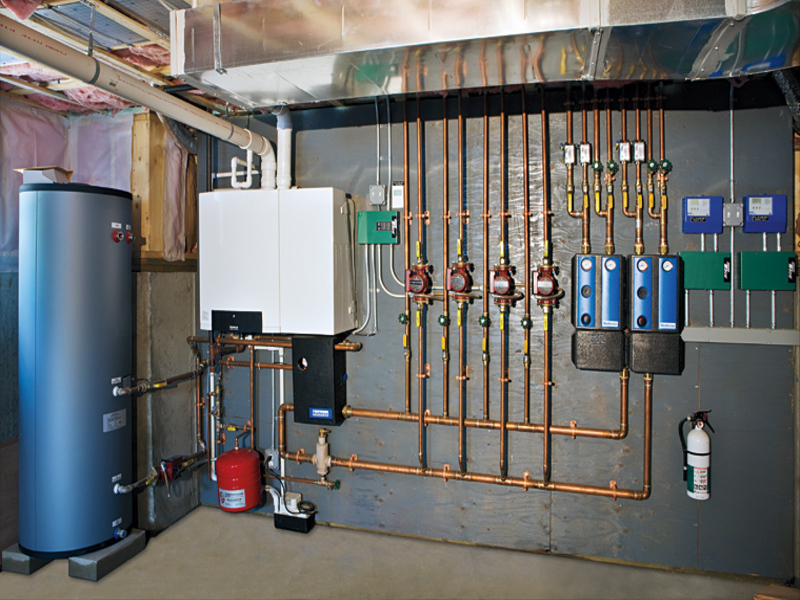valve: (651, 170, 673, 221), (515, 339, 535, 374), (640, 176, 658, 214), (432, 333, 452, 367), (588, 183, 605, 221), (451, 231, 468, 268), (395, 327, 414, 360), (617, 177, 632, 218), (536, 301, 554, 334), (494, 302, 511, 336), (539, 239, 551, 287), (492, 237, 509, 270), (476, 333, 492, 367), (632, 182, 646, 218), (410, 236, 425, 269), (455, 302, 470, 333), (563, 184, 576, 215), (414, 300, 426, 332), (602, 188, 614, 219), (579, 179, 589, 210)
